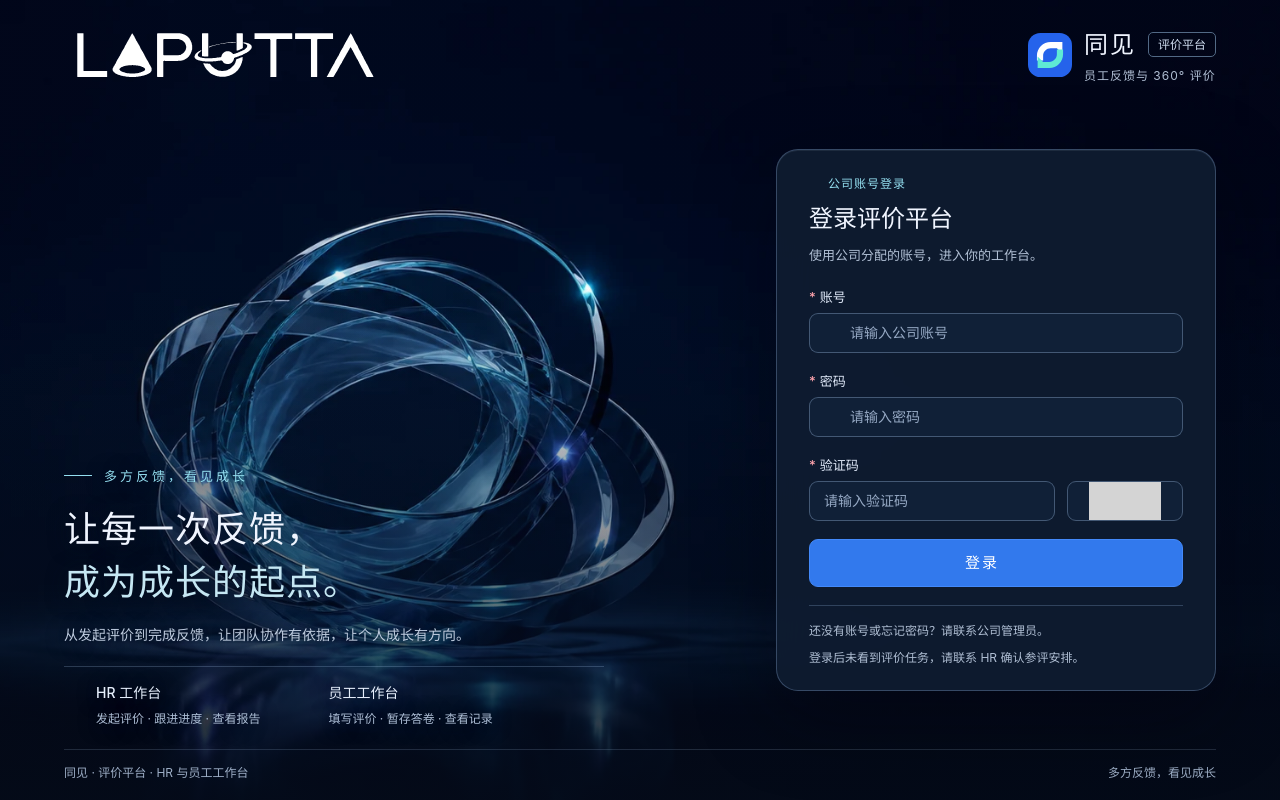
评价平台登录表单 › 真实 Element Plus 校验拦截空表单，不发送登录或更换验证码
Click the button with class "entry-login-button" at point(996, 563), box 809,539 -> 1183,587
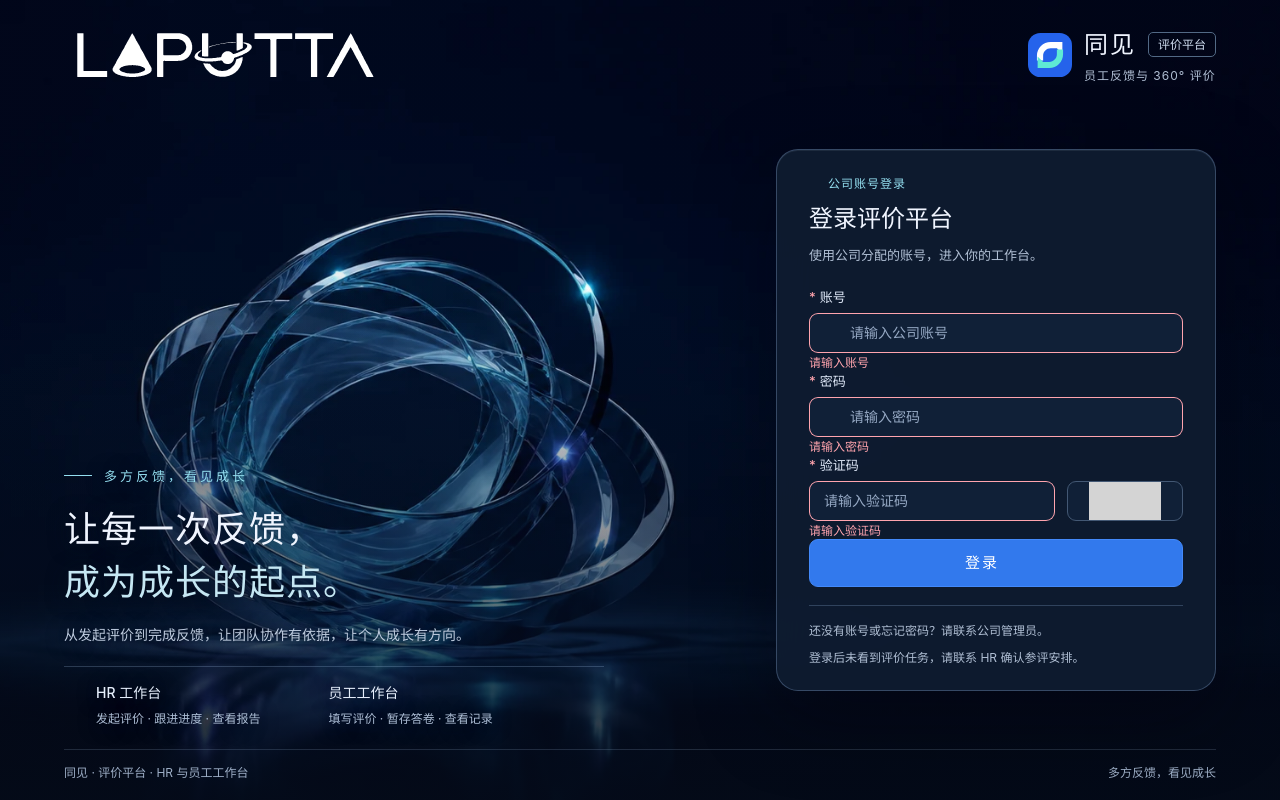
Expected: the text "请输入账号" is shown, 809,353 -> 869,369
Expected: the text "请输入密码" is shown, 809,437 -> 869,453
Expected: the text "请输入验证码" is shown, 809,521 -> 881,537
